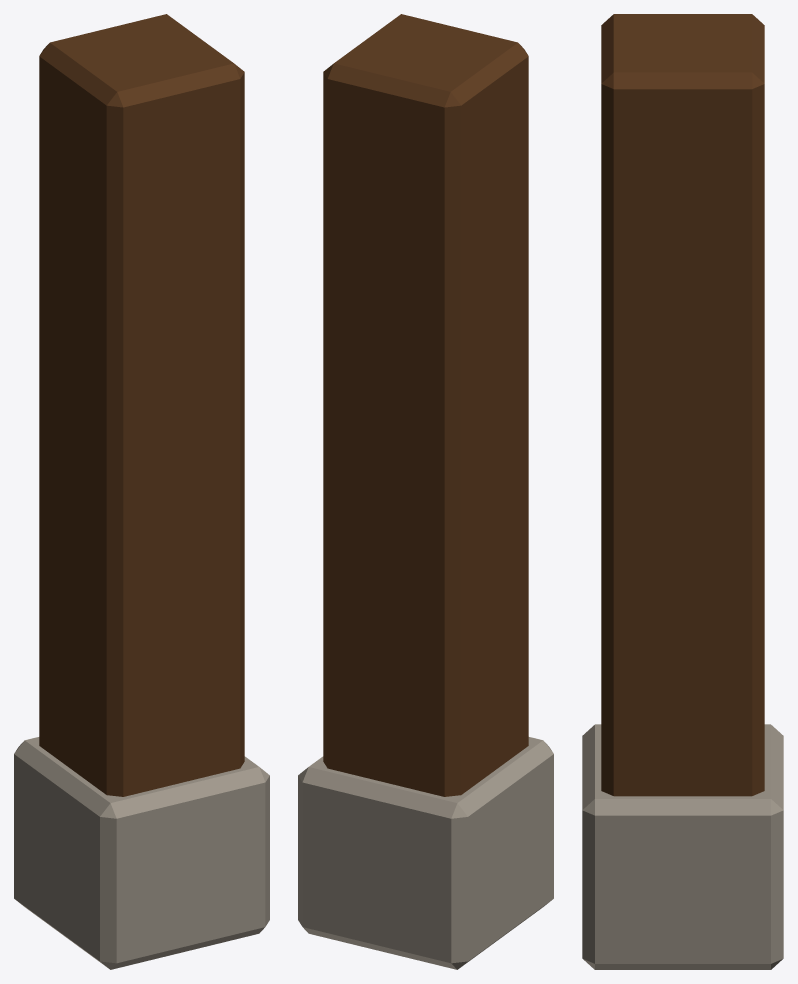
Rendered from PR_Building_Kose.fbx.
The picture shows the model from 3 angles, left to right: view 1: azimuth 30°, elevation 25°; view 2: azimuth 150°, elevation 25°; view 3: azimuth 270°, elevation 25°; orthographic projection. The views are drawn at different scales.
Visible parts, largest first — view 1: PR_Building_Kose; view 2: PR_Building_Kose; view 3: PR_Building_Kose.
Part boxes in pixels (x1,y1,x2,y2): PR_Building_Kose: [14, 14, 269, 969]; PR_Building_Kose: [298, 14, 553, 969]; PR_Building_Kose: [582, 14, 783, 969].
Bounding box in the file's own units: 0.32 × 1.56 × 0.32.
